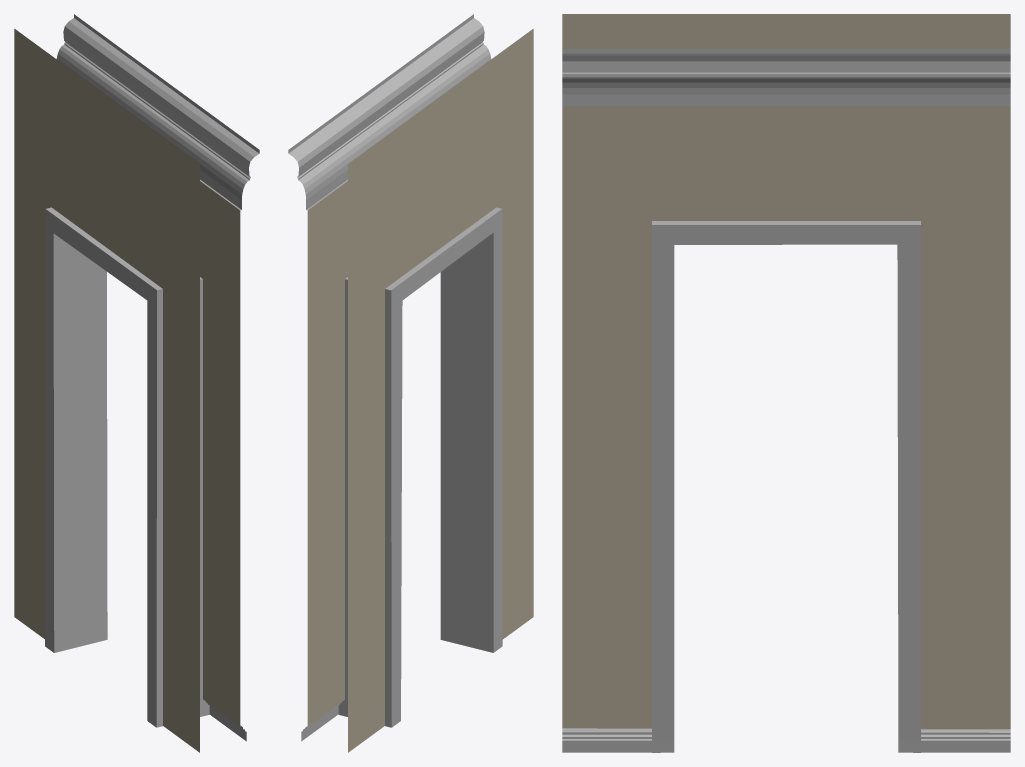
File: 2x3-5 pared_puerta.fbx
3 renders of one model, left to right at view 1: azimuth 30°, elevation 25°; view 2: azimuth 150°, elevation 25°; view 3: azimuth 270°, elevation 25°, orthographic. The views are drawn at different scales.
Parts seen in each view (by area): view 1: 2x3'5 pared_marco_puerta; view 2: 2x3'5 pared_marco_puerta; view 3: 2x3'5 pared_marco_puerta.
Boxes of the visible parts, left/top/right/bottom form: 2x3'5 pared_marco_puerta: left=14, top=14, right=259, bottom=752; 2x3'5 pared_marco_puerta: left=288, top=14, right=533, bottom=752; 2x3'5 pared_marco_puerta: left=562, top=14, right=1010, bottom=752.
Bounding box in the file's own units: 41.8 × 350 × 200.
